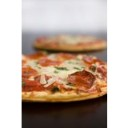pepperonipizza: (23, 53, 106, 100), (32, 35, 108, 50)
